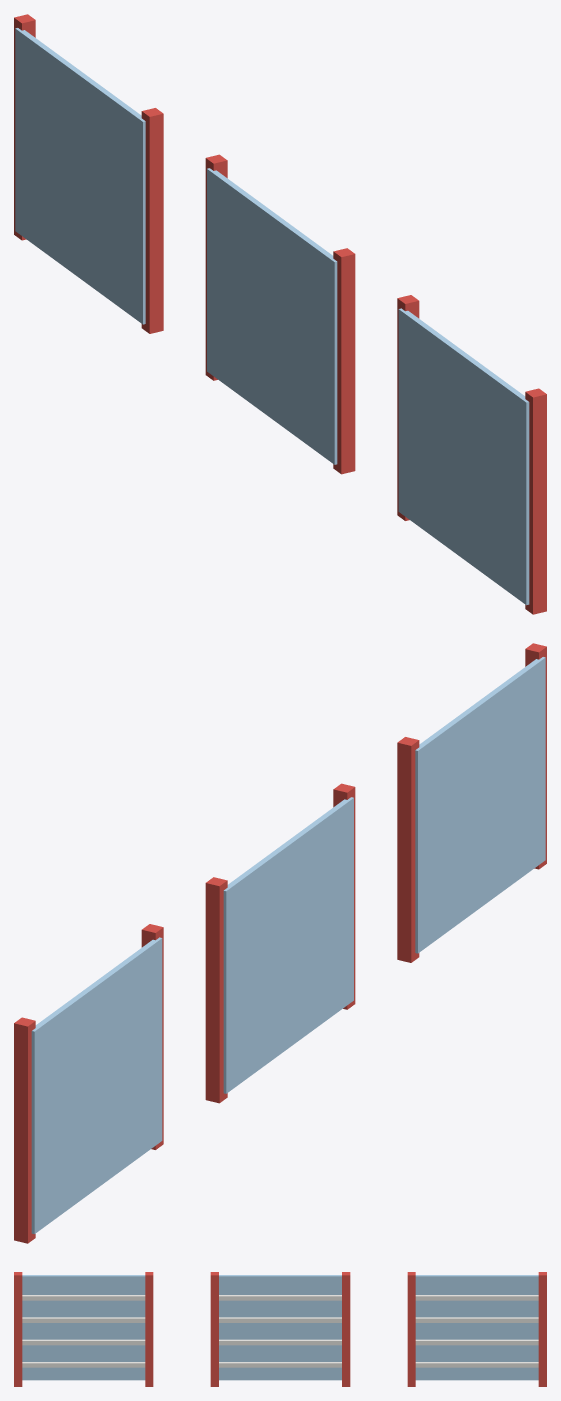
The model's file is diner_windows.glb.
3 renders of one model, top to bottom at view 1: azimuth 30°, elevation 25°; view 2: azimuth 150°, elevation 25°; view 3: azimuth 270°, elevation 25°, orthographic. The views are drawn at different scales.
Visible parts, largest first — view 1: diner_windows; view 2: diner_windows; view 3: diner_windows.
Part boxes in pixels (x1=…): diner_windows: x1=14, y1=14, x2=546, y2=614; diner_windows: x1=14, y1=643, x2=546, y2=1243; diner_windows: x1=14, y1=1272, x2=546, y2=1386.
Size of the model in its own units: 0.12 by 1.5 by 6.5.
